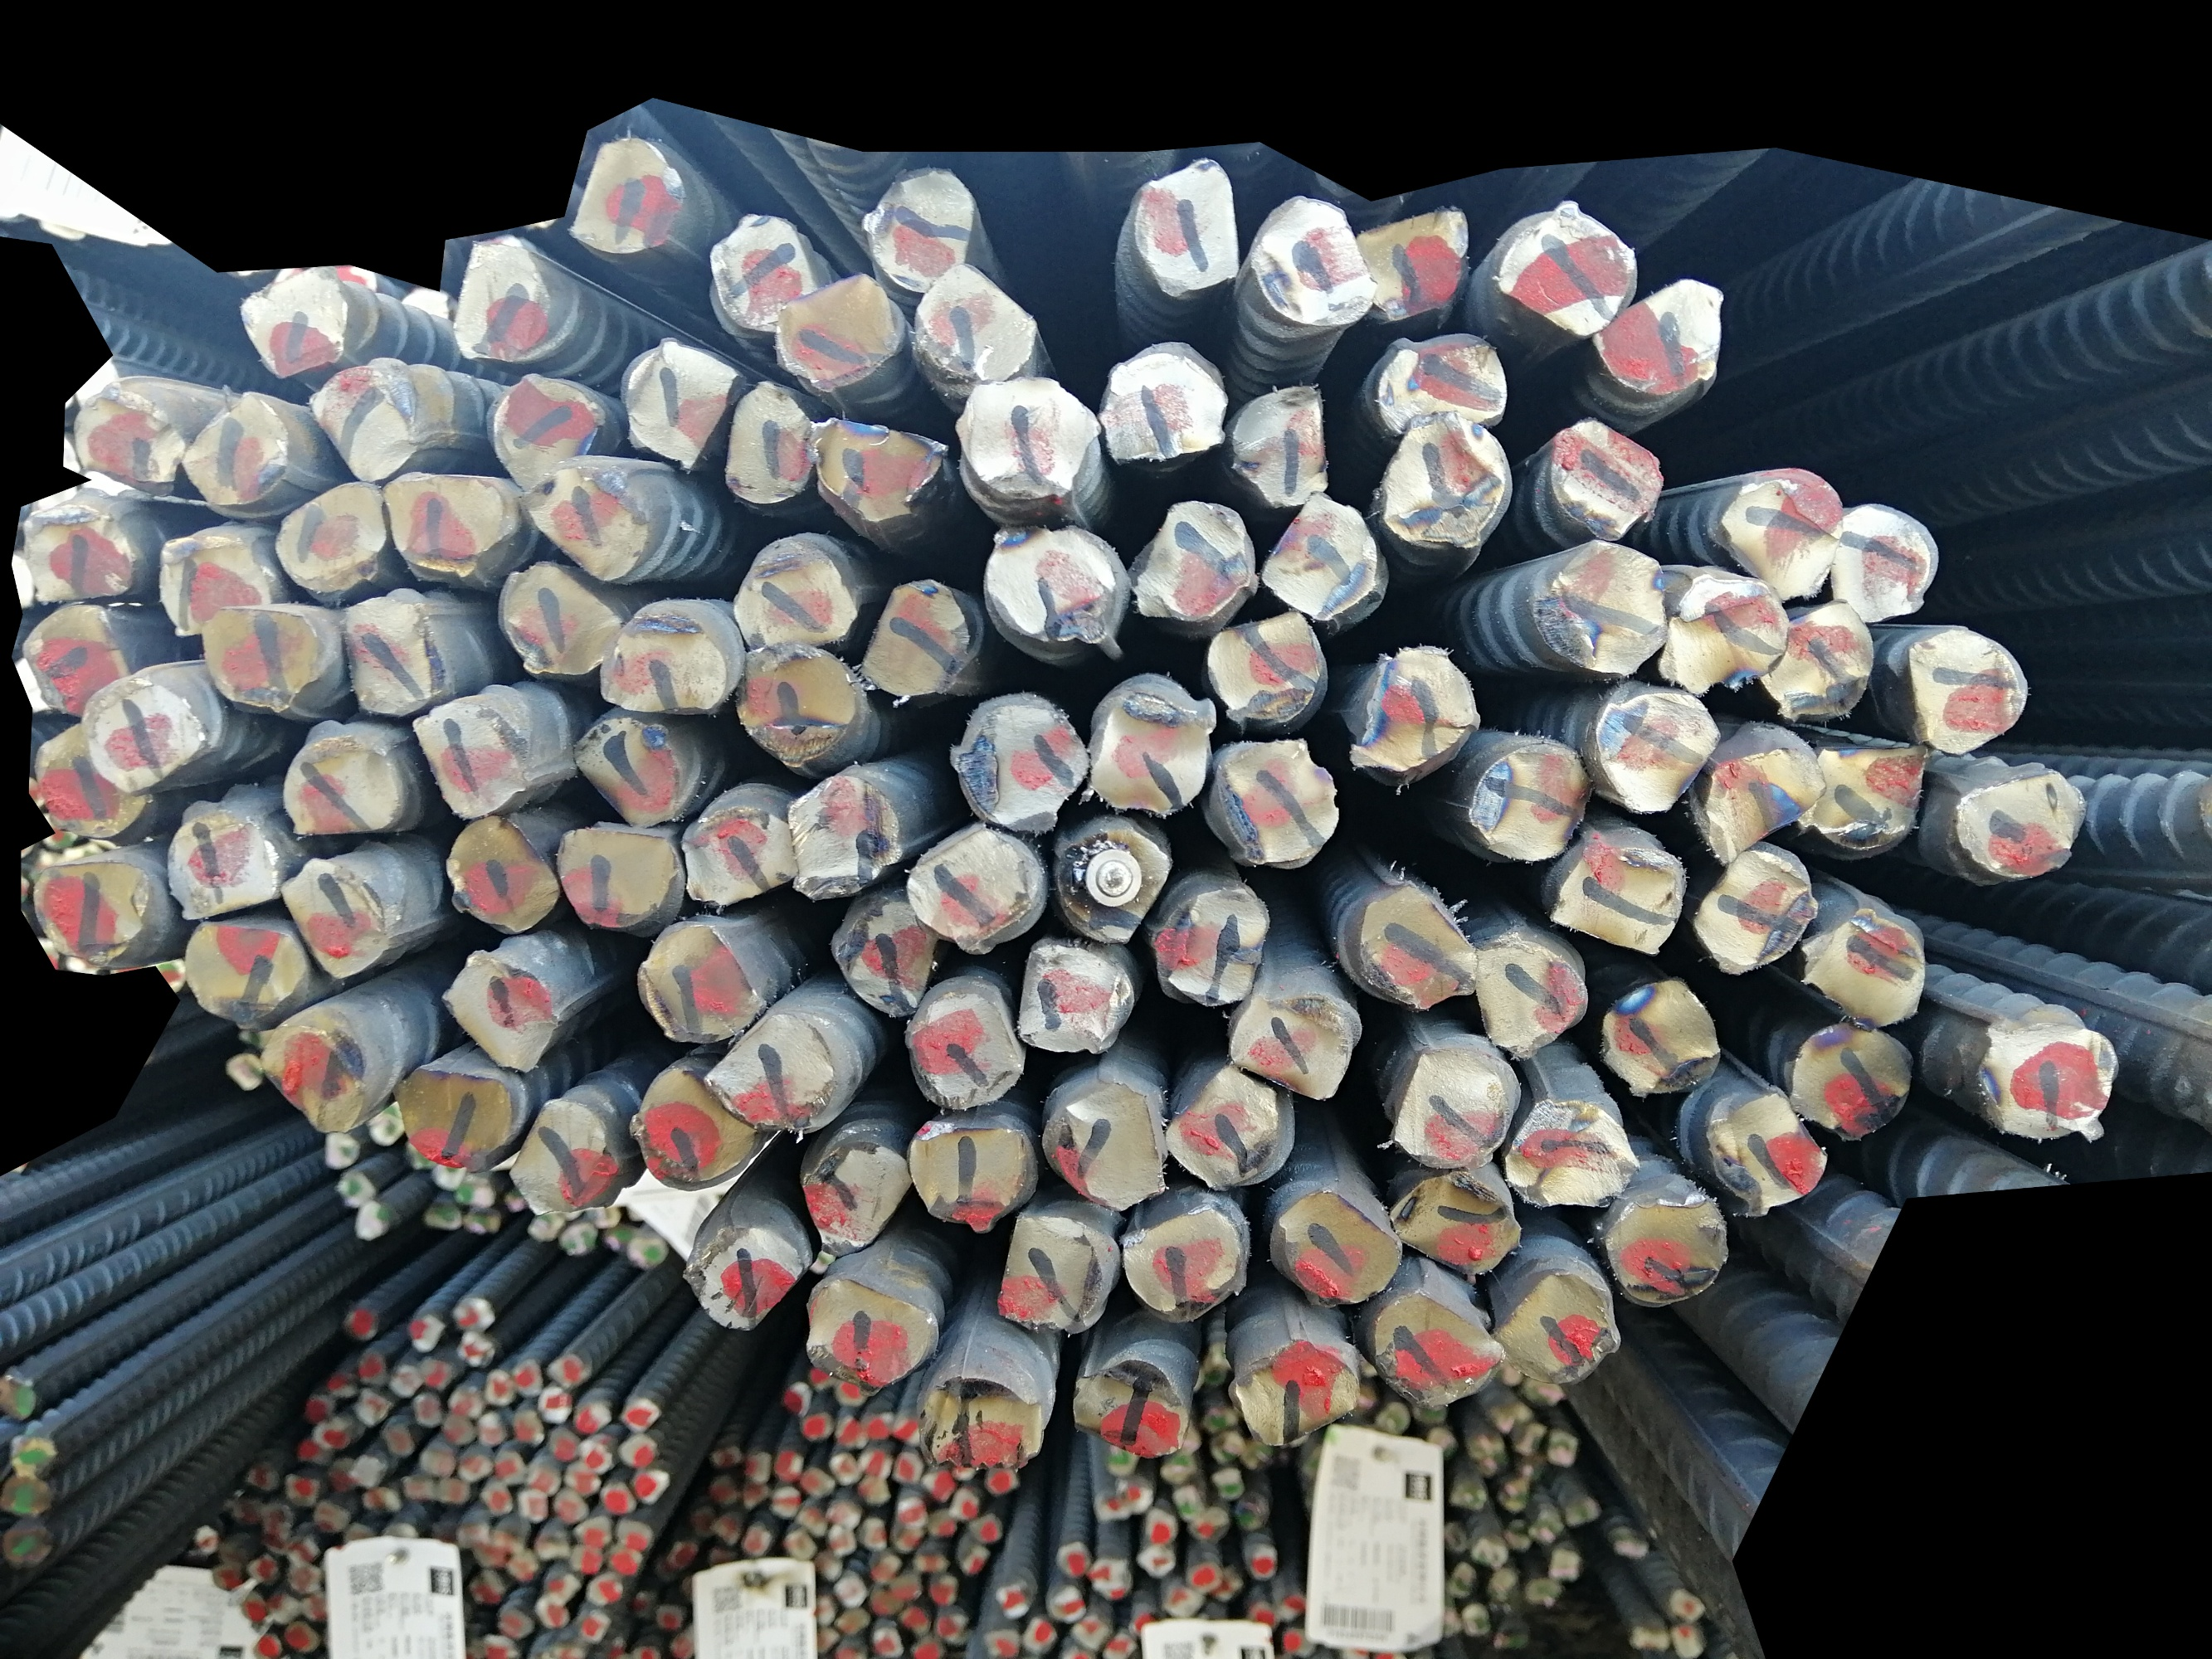rebar: (1968, 999, 2116, 1148), (952, 690, 1093, 838), (1896, 619, 2034, 770), (1496, 202, 1642, 342), (793, 1263, 947, 1394), (1787, 899, 1937, 1032), (1375, 413, 1513, 556), (978, 516, 1121, 652), (1138, 868, 1274, 1011), (1088, 674, 1220, 821), (1541, 829, 1693, 957), (1534, 535, 1668, 678), (1591, 680, 1724, 824), (33, 836, 164, 983), (1658, 558, 1788, 702), (959, 371, 1098, 505), (1785, 1016, 1919, 1154), (1349, 882, 1483, 1019), (1215, 734, 1346, 875), (1114, 1180, 1245, 1321), (1717, 460, 1844, 605), (987, 1199, 1114, 1344), (1243, 188, 1367, 336), (1944, 763, 2093, 885), (1374, 1276, 1506, 1413), (1489, 1256, 1626, 1389), (448, 936, 572, 1082), (1591, 268, 1727, 399), (1344, 647, 1480, 777), (1035, 1080, 1171, 1211), (1691, 840, 1820, 978), (1600, 964, 1719, 1112), (894, 981, 1028, 1112), (1382, 1042, 1517, 1173), (612, 333, 743, 465), (908, 254, 1041, 385), (629, 1061, 760, 1194), (71, 669, 206, 798), (704, 1004, 833, 1138), (1457, 732, 1591, 861), (626, 920, 763, 1046), (193, 598, 335, 720), (1694, 728, 1823, 861), (1708, 1079, 1834, 1215), (1278, 1182, 1403, 1317), (852, 162, 981, 293), (1009, 929, 1138, 1060), (912, 817, 1039, 950), (1511, 1084, 1644, 1211), (804, 410, 950, 525), (1473, 924, 1595, 1061), (535, 446, 654, 587), (779, 767, 898, 908), (173, 908, 312, 1026), (1381, 1168, 1529, 1279), (1217, 983, 1367, 1093), (495, 551, 622, 680), (1539, 410, 1666, 538), (1808, 721, 1931, 854), (546, 812, 685, 929), (1218, 1328, 1353, 1448), (1370, 326, 1517, 436), (570, 125, 683, 267), (380, 457, 507, 582), (1265, 491, 1389, 620), (727, 532, 861, 650), (1133, 150, 1243, 295), (859, 566, 973, 706), (776, 274, 905, 396), (1137, 498, 1259, 627), (1755, 594, 1876, 725), (680, 1201, 807, 1323), (736, 636, 865, 756), (275, 471, 396, 599), (1173, 1060, 1292, 1190), (1093, 349, 1225, 465), (148, 528, 281, 645), (797, 1126, 913, 1258), (307, 354, 425, 483), (167, 795, 281, 929), (335, 579, 441, 721), (831, 884, 943, 1019), (439, 809, 560, 934), (1602, 1192, 1731, 1309), (905, 1121, 1034, 1237), (1208, 605, 1332, 725), (570, 709, 695, 828), (277, 854, 392, 983), (1056, 823, 1173, 948), (279, 725, 394, 852), (260, 1002, 371, 1133), (1351, 206, 1469, 328), (31, 721, 150, 843), (704, 206, 816, 335), (917, 1364, 1049, 1473), (178, 390, 300, 507), (19, 495, 145, 608), (509, 1096, 621, 1222), (1829, 497, 1938, 624), (21, 599, 136, 720), (673, 798, 797, 910), (601, 605, 729, 709), (485, 369, 601, 483), (392, 1061, 519, 1164), (450, 232, 551, 361), (239, 270, 361, 376), (1236, 378, 1332, 512), (1072, 1340, 1187, 1452), (417, 702, 523, 821), (720, 373, 812, 505), (70, 389, 183, 491)
